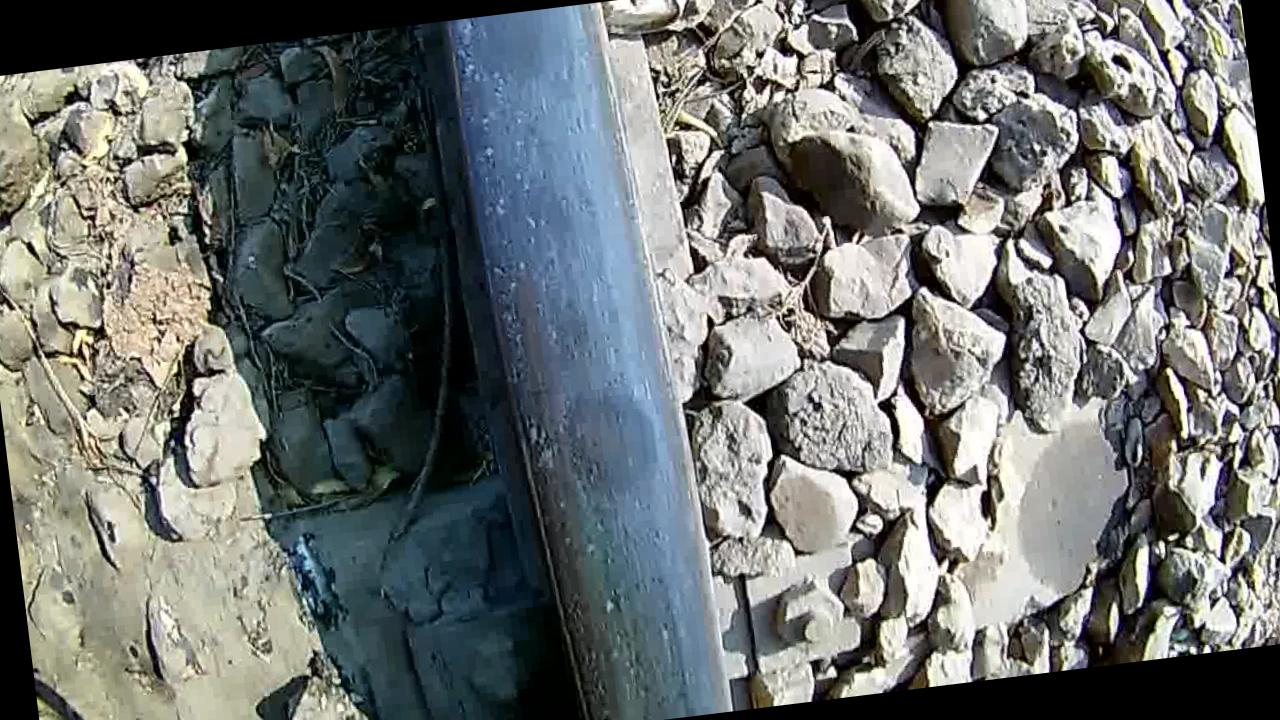bolt_missing: (502, 279, 687, 627)
